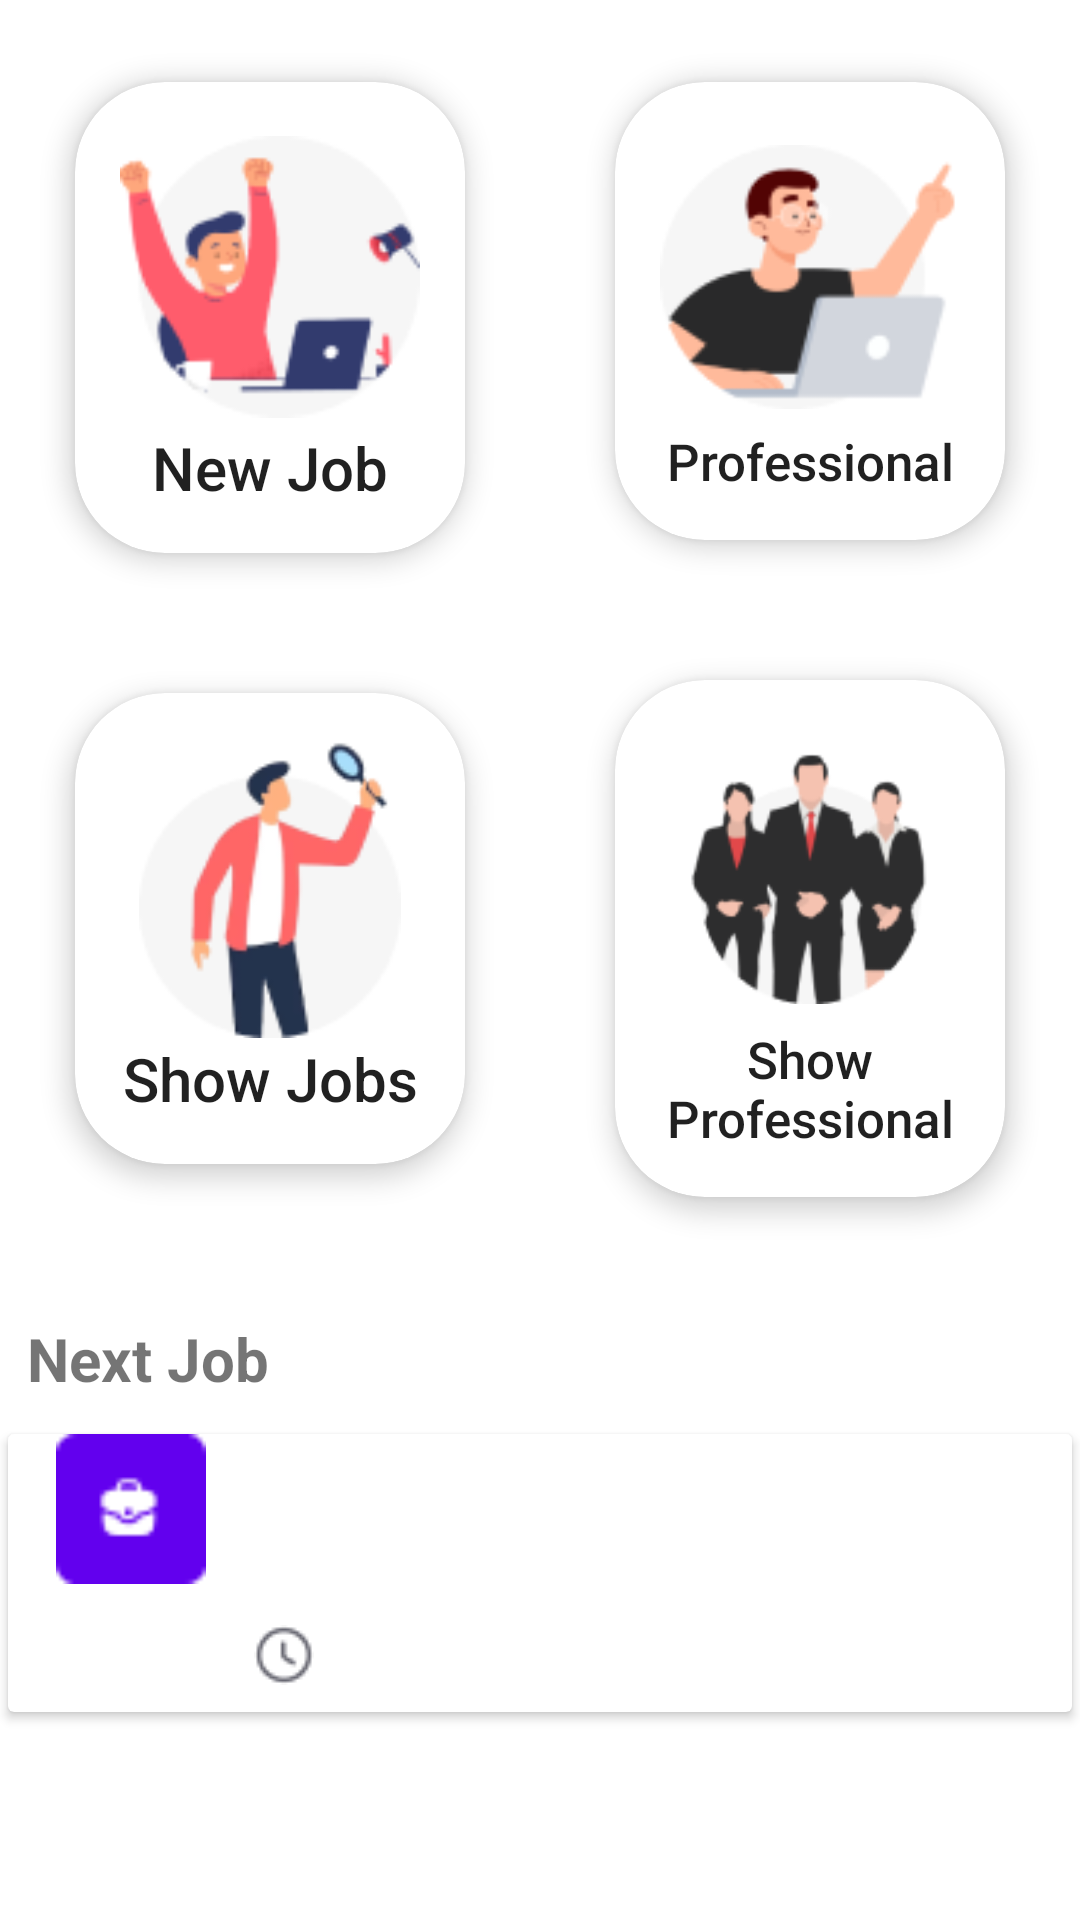

Icon click points for this 1080x1920 phone screenshot, format point (x, y):
hours: point (284, 1655)
